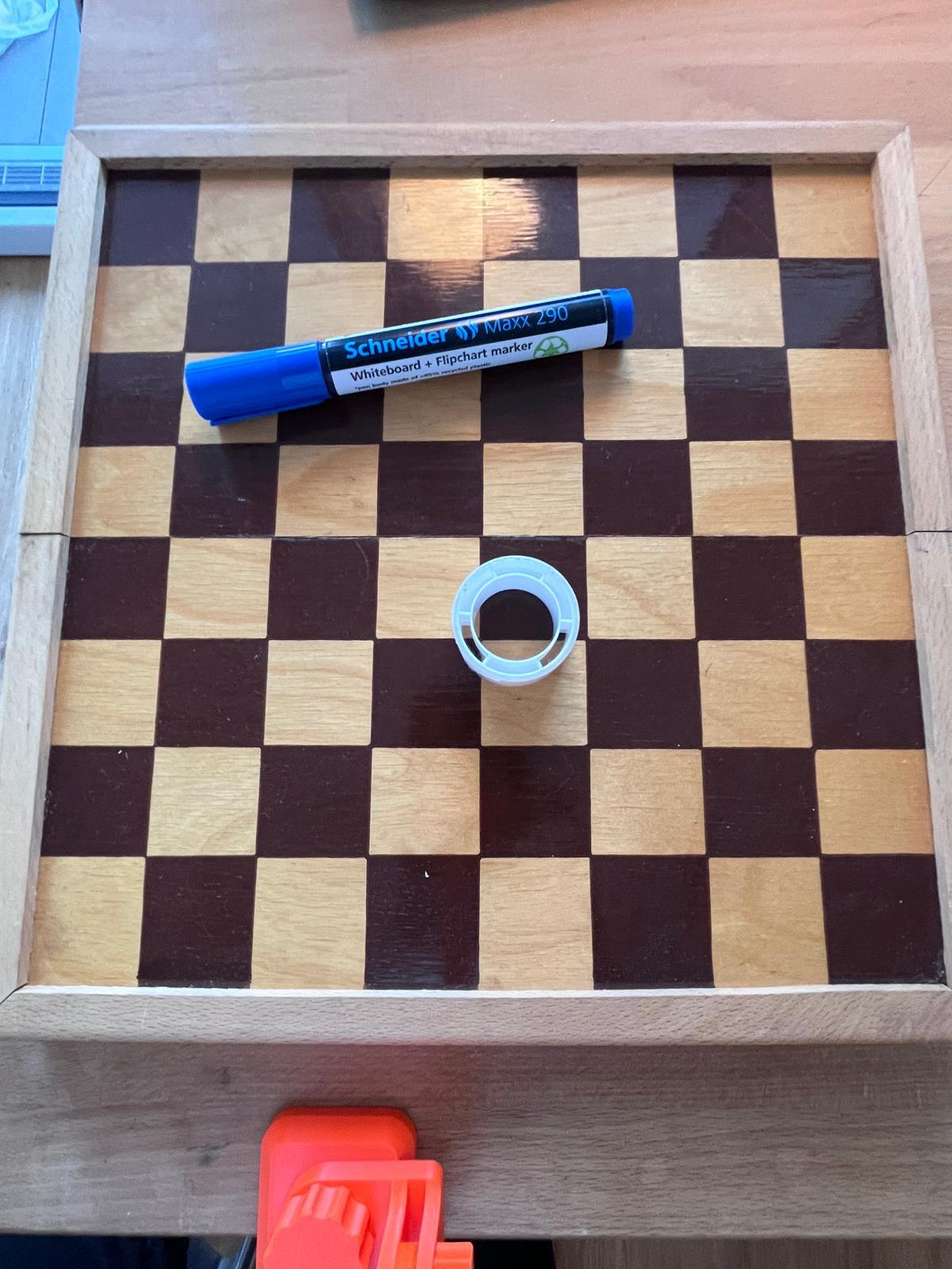marker: (182, 289, 631, 430)
tape: (447, 558, 581, 682)
